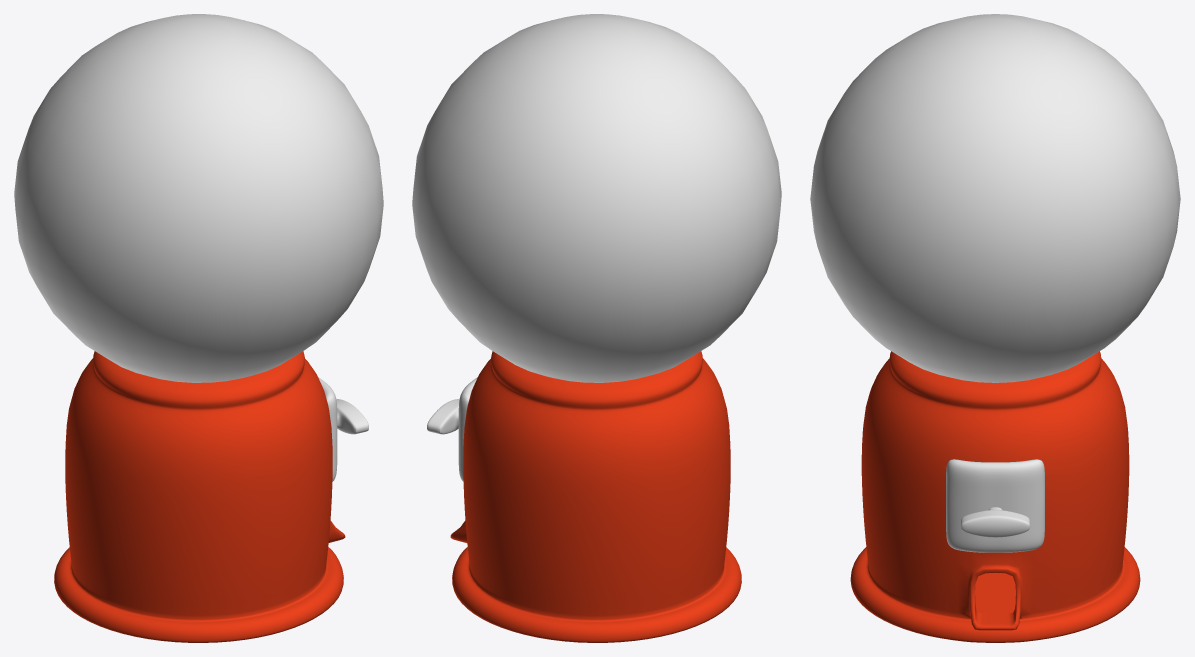
File: gumball_anim.fbx
The picture shows the model from 3 angles, left to right: view 1: azimuth 30°, elevation 25°; view 2: azimuth 150°, elevation 25°; view 3: azimuth 270°, elevation 25°; orthographic projection.
Visible parts, largest first — view 1: Sphere, Cylinder, Knob, Cube.001; view 2: Sphere, Cylinder, Knob, Cube.001; view 3: Sphere, Cylinder, Cube.001, Knob.
Boxes of the visible parts, left/top/right/bottom form: Sphere: left=14, top=14, right=383, bottom=382; Cylinder: left=54, top=351, right=345, bottom=642; Knob: left=336, top=399, right=368, bottom=434; Cube.001: left=318, top=377, right=337, bottom=481; Sphere: left=412, top=14, right=781, bottom=382; Cylinder: left=450, top=351, right=741, bottom=642; Knob: left=427, top=399, right=459, bottom=434; Cube.001: left=458, top=377, right=477, bottom=481; Sphere: left=810, top=14, right=1180, bottom=382; Cylinder: left=850, top=351, right=1140, bottom=642; Cube.001: left=946, top=459, right=1044, bottom=552; Knob: left=961, top=507, right=1029, bottom=537.
Size of the model in its own units: 296 by 296 by 487.
